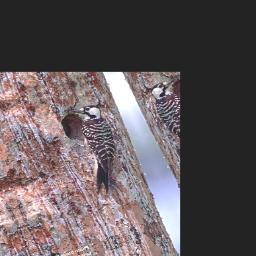Woodpecker: (62, 101, 136, 196)
